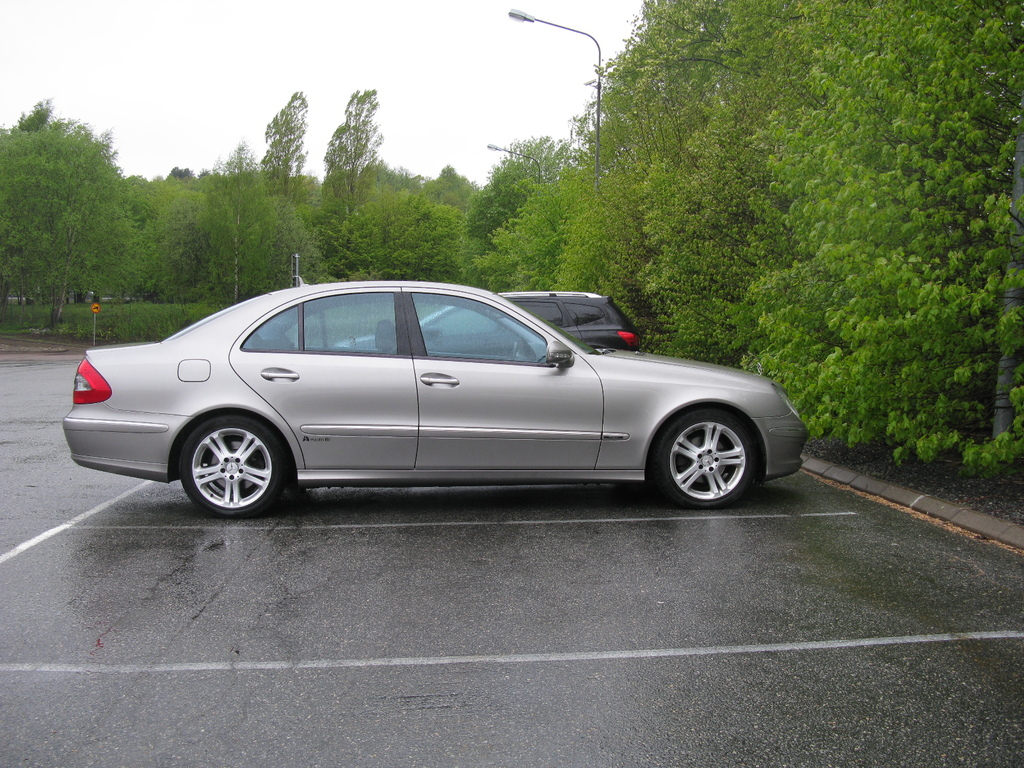Car: (63, 281, 811, 510), (331, 295, 638, 357)
